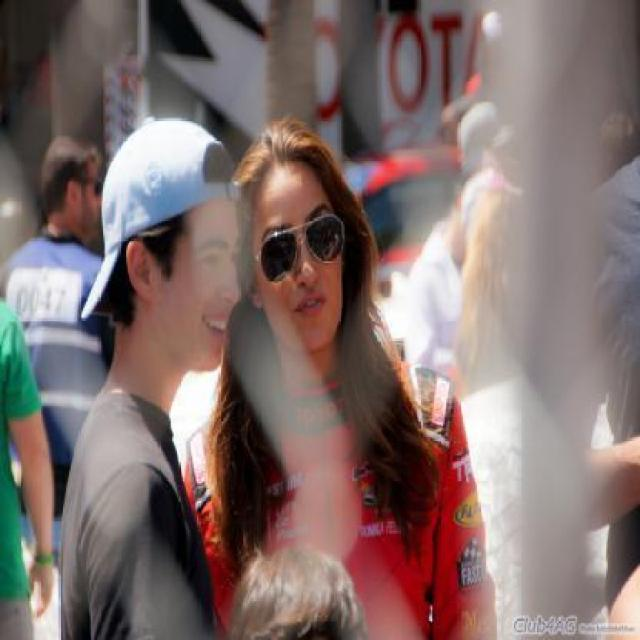face_nomask: (259, 224, 352, 321), (187, 240, 248, 346)
glasses: (257, 215, 349, 282)
head_nohelmet: (96, 124, 244, 231), (228, 126, 344, 206)
person: (220, 126, 477, 640), (48, 117, 254, 640)
